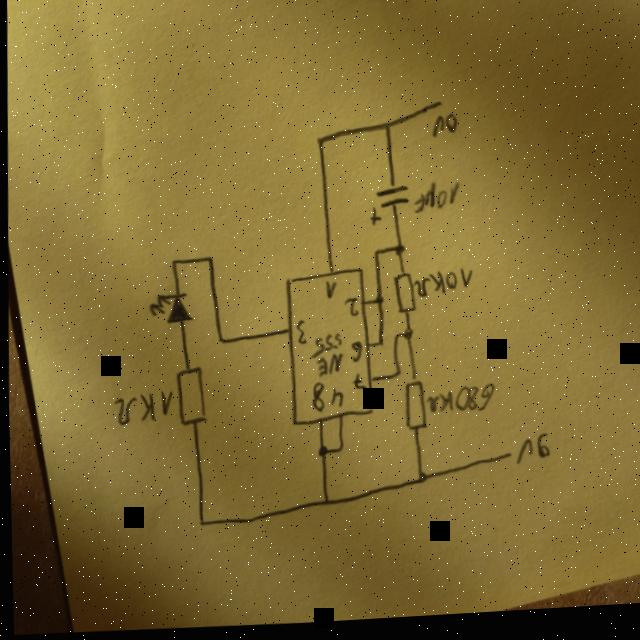capacitor: (366, 185, 409, 232)
diode: (145, 292, 192, 327)
junction: (392, 247, 404, 262), (314, 447, 326, 462), (413, 475, 425, 489), (313, 138, 325, 151), (380, 123, 391, 135), (215, 335, 225, 348), (194, 518, 204, 531), (401, 332, 411, 345), (203, 255, 213, 267), (167, 258, 177, 269), (373, 299, 383, 310), (334, 445, 342, 457), (319, 501, 328, 511), (371, 252, 379, 263), (390, 335, 398, 346), (391, 372, 399, 383), (374, 342, 382, 352)
resistor: (172, 367, 206, 430), (400, 382, 426, 437), (389, 274, 415, 321)
terminal: (434, 102, 443, 115), (503, 455, 511, 465)
text: (109, 390, 172, 429), (424, 387, 492, 421), (411, 271, 471, 304), (410, 184, 459, 220), (307, 335, 342, 382), (513, 437, 548, 472), (430, 118, 457, 143), (308, 385, 324, 416), (293, 322, 305, 349), (342, 301, 357, 321), (328, 391, 342, 412), (349, 376, 364, 395), (348, 344, 360, 367), (323, 283, 335, 304)
